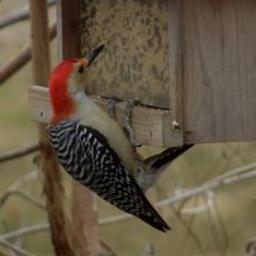Woodpecker: (42, 42, 186, 226)
